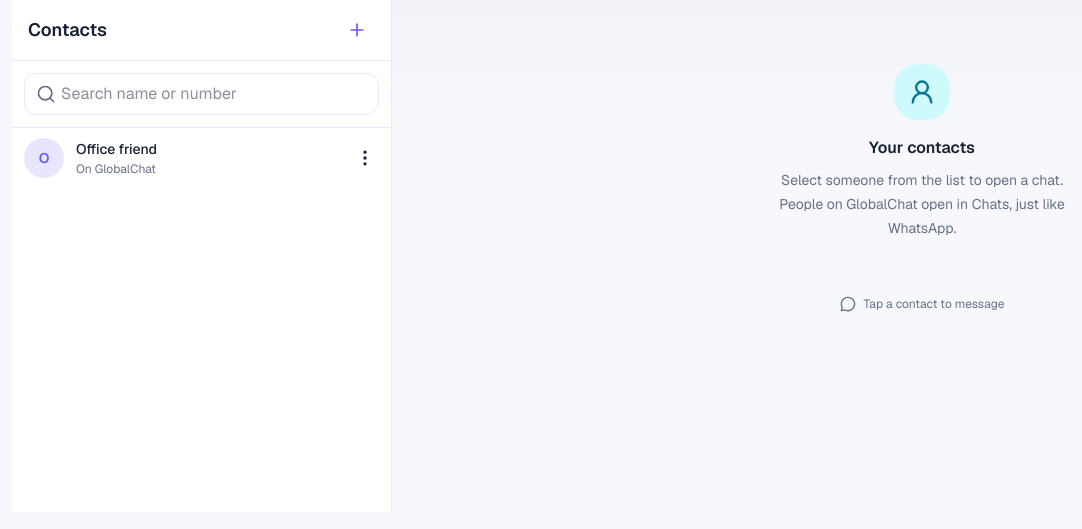
Test case: Message failure remains safe and does not navigate
Step 1. Click the button "O Office friend On GlobalChat" → click(44, 158), box [12,128,347,188]
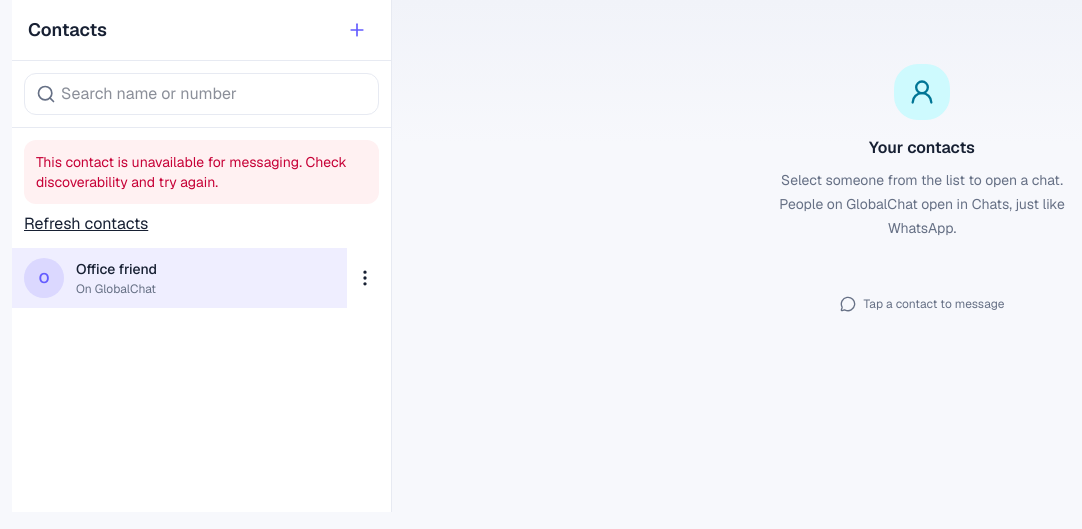
Check: the text "unavailable for messaging" is shown, box [36,153,347,191]
